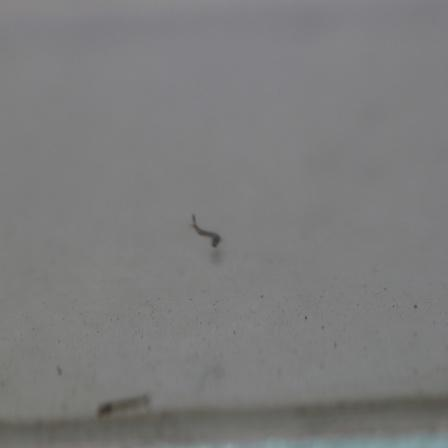Jentik-Nyamuk: (187, 210, 227, 253)
